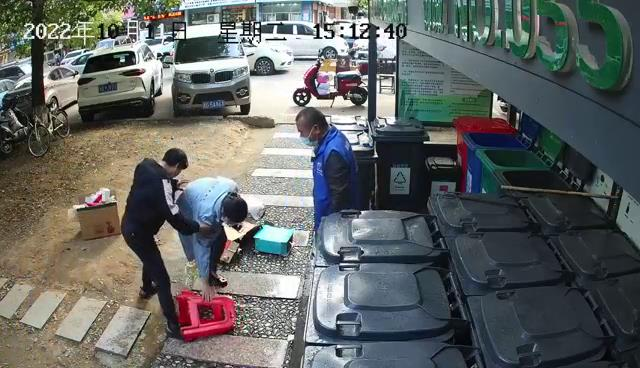person: (120, 147, 188, 341)
suliaozhipin: (172, 287, 237, 341), (247, 198, 266, 221)
worker: (171, 174, 250, 302), (293, 107, 361, 234)
zhizhipin: (66, 183, 120, 241), (219, 220, 262, 265), (252, 223, 295, 258)
